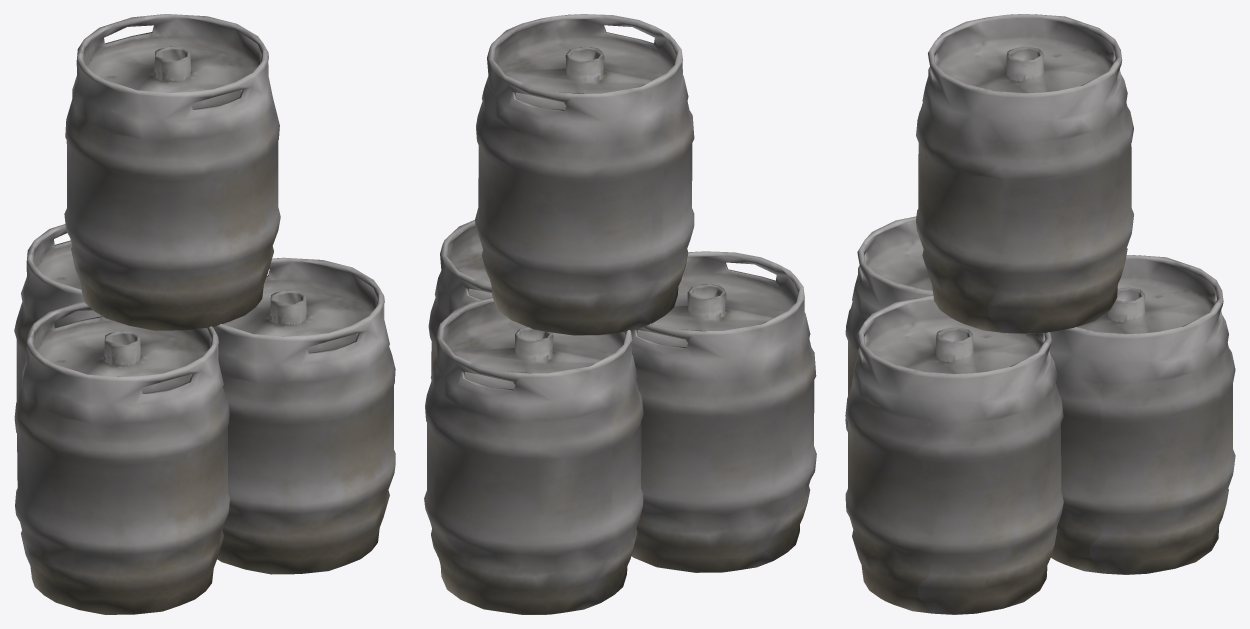
Rendered from PackEmptyKeg.fbx.
3 views of the same model, side by side, from view 1: azimuth 30°, elevation 25°; view 2: azimuth 150°, elevation 25°; view 3: azimuth 270°, elevation 25° (orthographic).
Visible parts, largest first — view 1: keg.003; view 2: keg.003; view 3: keg.003.
Part boxes in pixels (box(x1,y1,x2,y2)): keg.003: box(14, 14, 395, 614); keg.003: box(424, 14, 816, 614); keg.003: box(845, 14, 1235, 614).
Bounding box in the file's own units: 0.7598 × 0.9841 × 0.7191.
